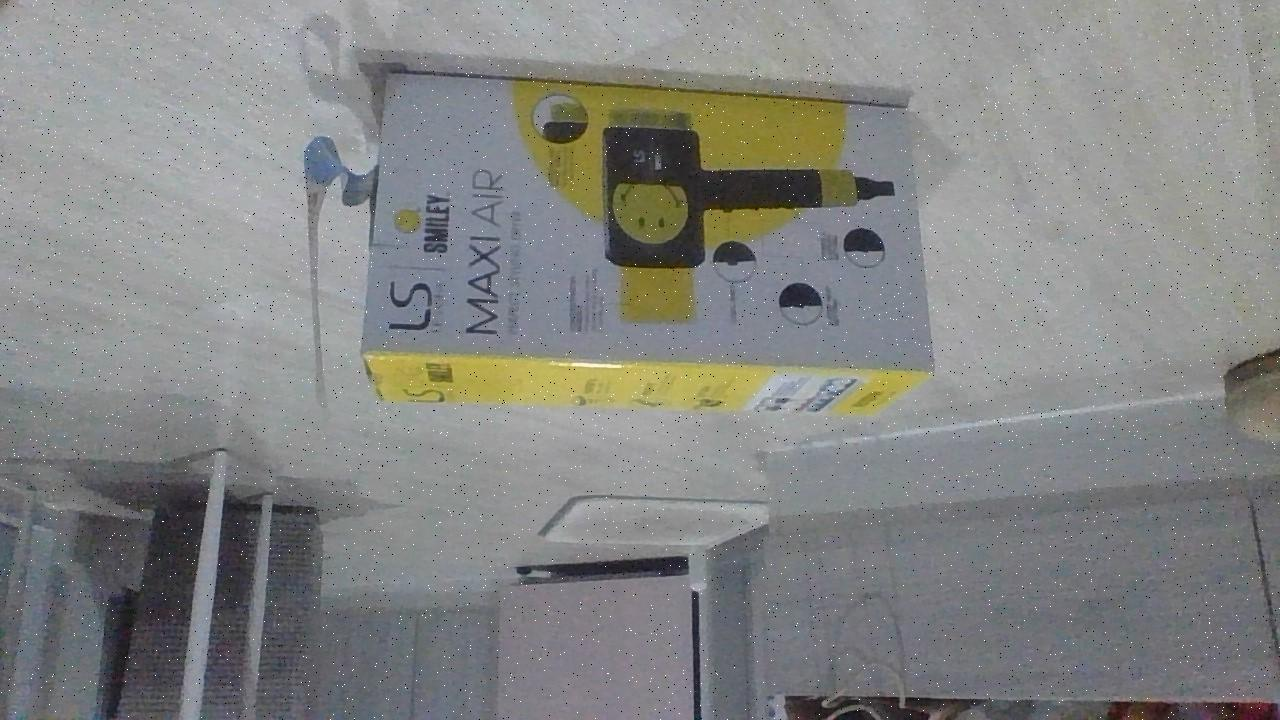IRON: (357, 65, 941, 423)
